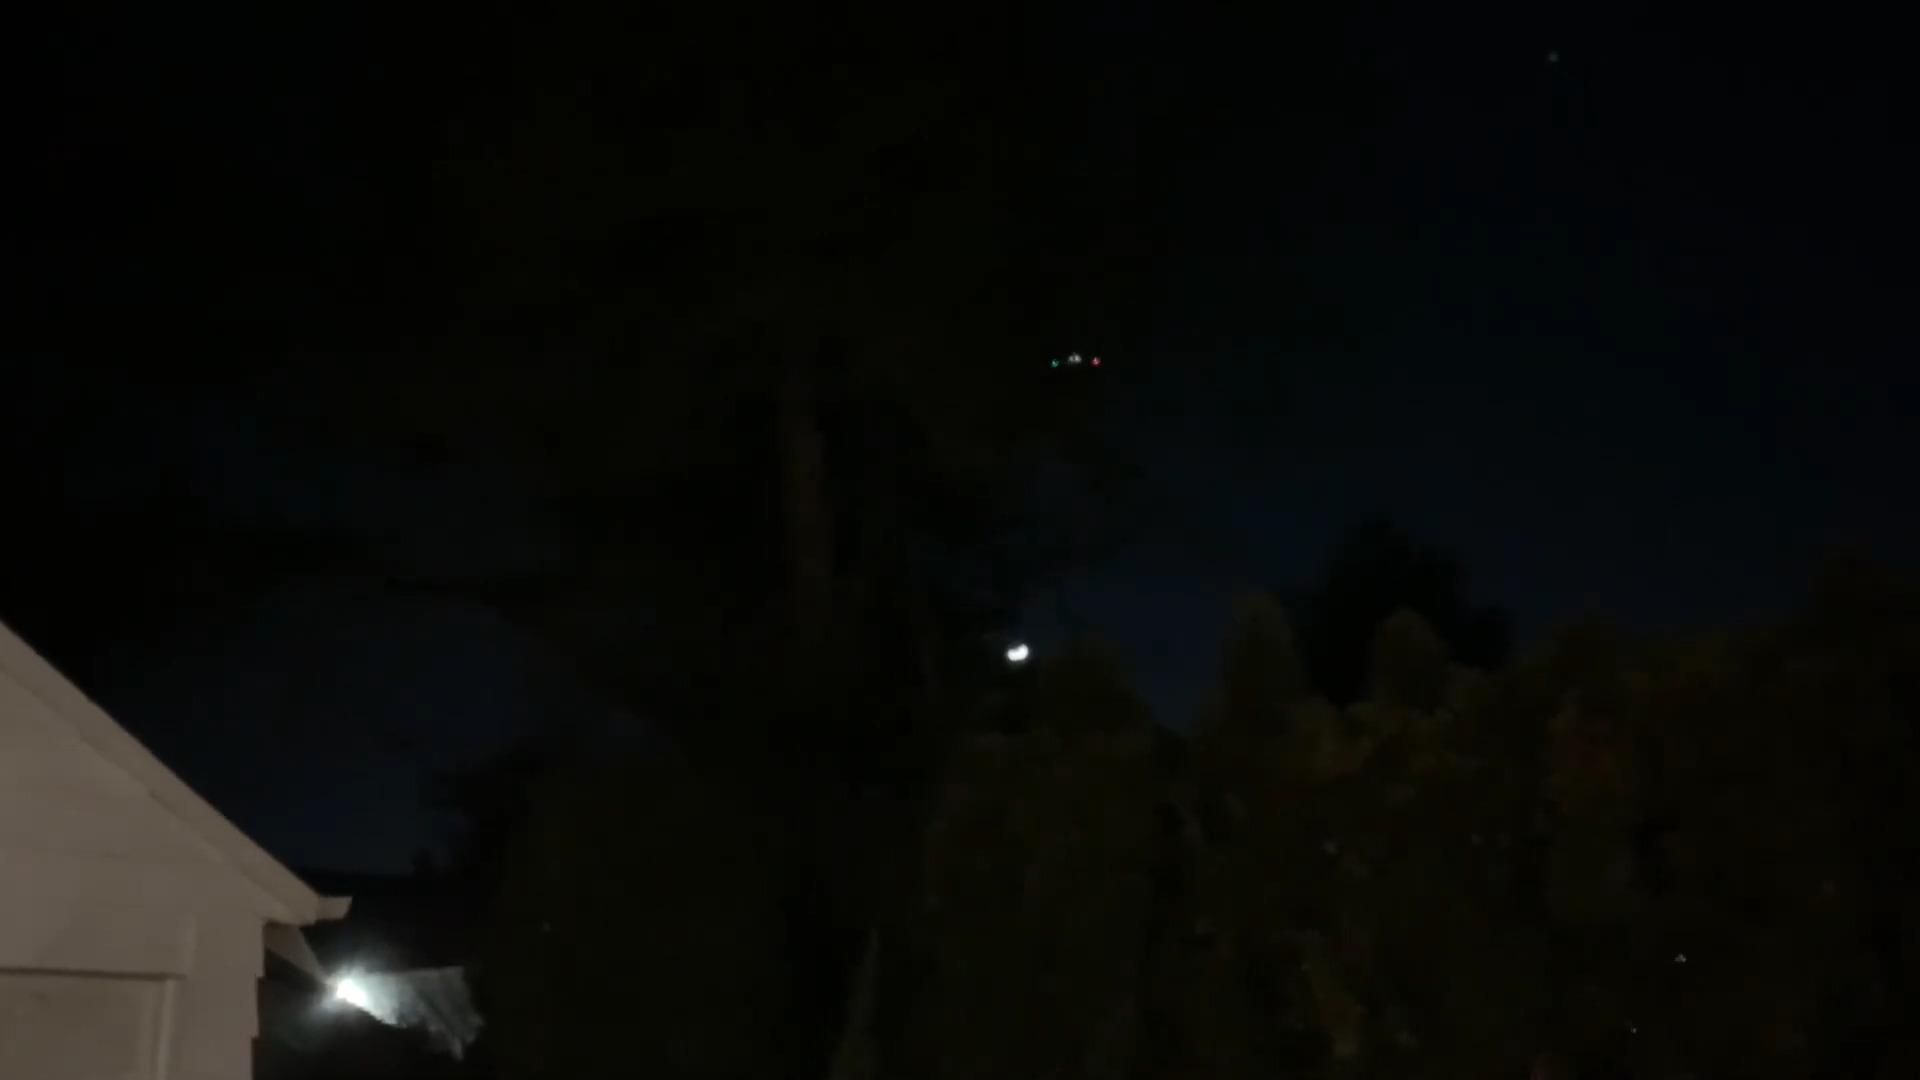Plane: (1015, 342, 1137, 377)
